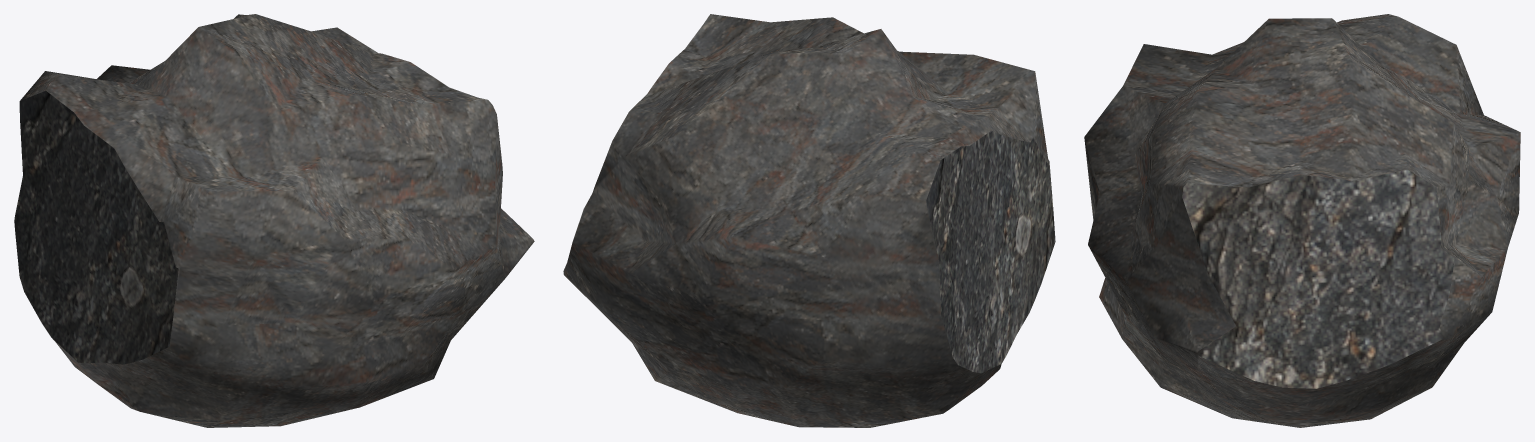
Rendered from SM_HarvestRock_Intact.fbx.
3 views of the same model, side by side, from view 1: azimuth 30°, elevation 25°; view 2: azimuth 150°, elevation 25°; view 3: azimuth 270°, elevation 25° (orthographic). The views are drawn at different scales.
Visible parts, largest first — view 1: SM_HarvestRock_Intact; view 2: SM_HarvestRock_Intact; view 3: SM_HarvestRock_Intact.
Part boxes in pixels (<box>): SM_HarvestRock_Intact: <box>14,14,534,427</box>; SM_HarvestRock_Intact: <box>563,14,1055,427</box>; SM_HarvestRock_Intact: <box>1084,14,1520,427</box>.
Size of the model in its own units: 160 by 158 by 136.
